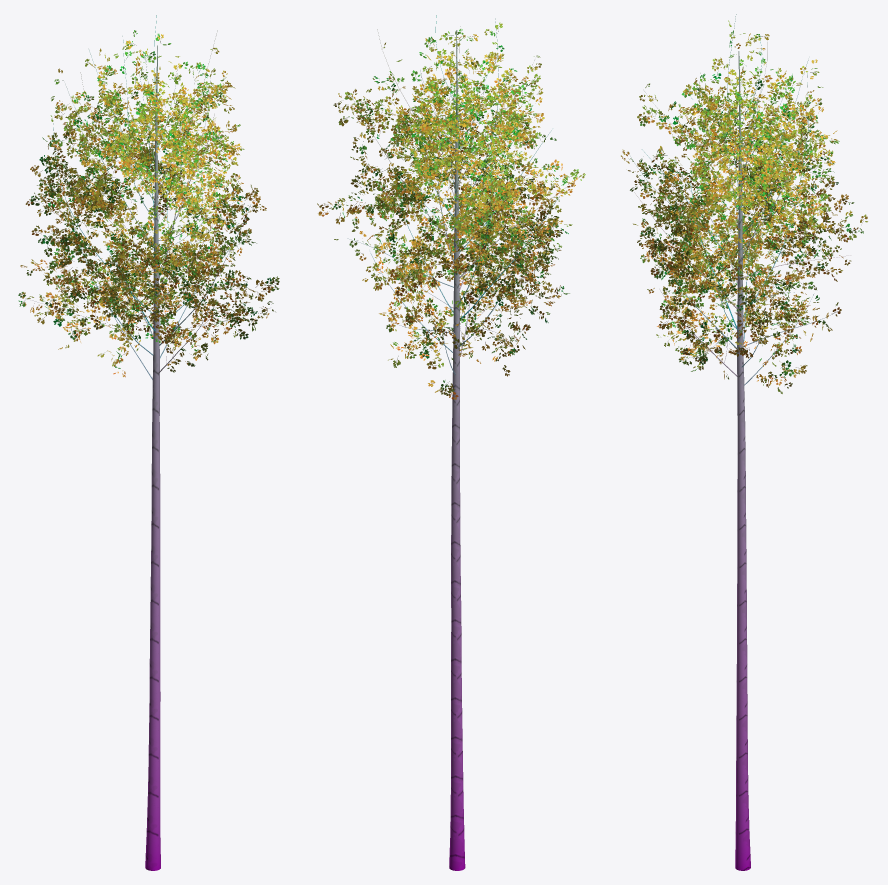
File: asset.glb
3 views of the same model, side by side, from view 1: azimuth 30°, elevation 25°; view 2: azimuth 150°, elevation 25°; view 3: azimuth 270°, elevation 25° (orthographic). The views are drawn at different scales.
Visible parts, largest first — view 1: quaking_aspen_LOD0; view 2: quaking_aspen_LOD0; view 3: quaking_aspen_LOD0.
Part boxes in pixels (x1,y1,x2,y2): quaking_aspen_LOD0: (18, 15, 279, 870); quaking_aspen_LOD0: (317, 15, 585, 870); quaking_aspen_LOD0: (621, 14, 867, 870).
Bounding box in the file's own units: 6.14 × 19.84 × 5.52.
Materials: 2 (2 with a texture image).
